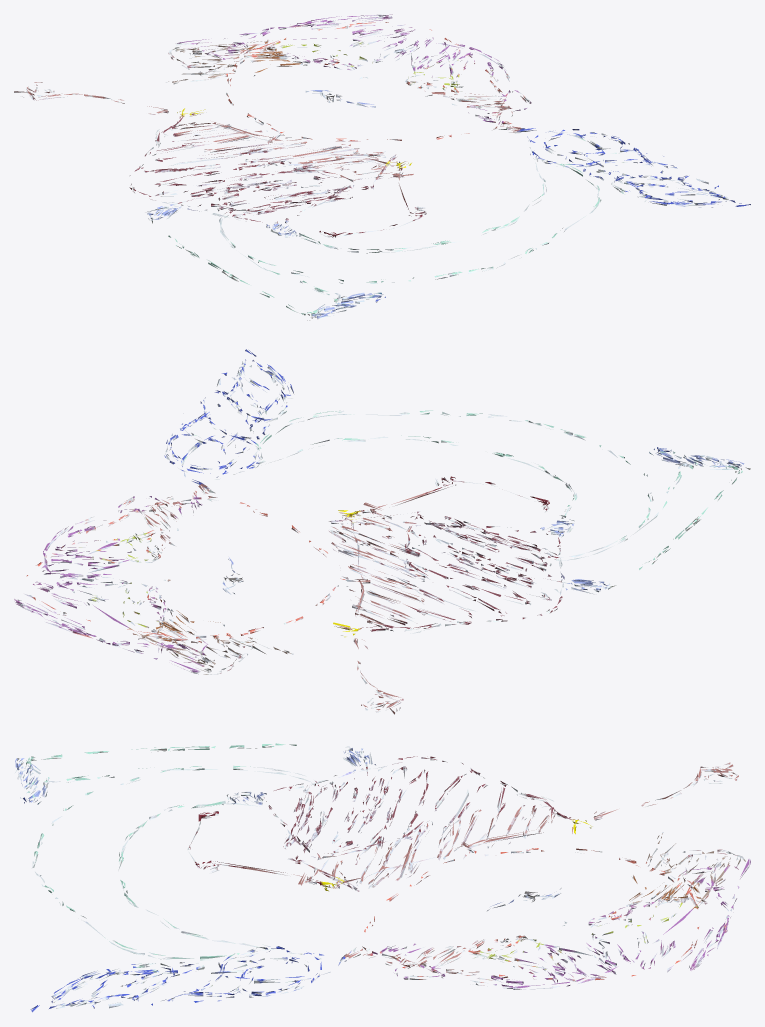
Rendered from Dingding.glb.
The picture shows the model from 3 angles, top to bottom: view 1: azimuth 30°, elevation 25°; view 2: azimuth 150°, elevation 25°; view 3: azimuth 270°, elevation 25°; orthographic projection. The views are drawn at different scales.
Parts seen in each view (by area): view 1: node_id4; view 2: node_id4; view 3: node_id4.
Part boxes in pixels (box(x1,y1,x2,y2)): node_id4: box(14, 14, 750, 320); node_id4: box(14, 349, 750, 714); node_id4: box(15, 743, 750, 1012).
Size of the model in its own units: 0.2507 by 0.00179 by 0.2912.
Materials: 1 (1 with a texture image).
